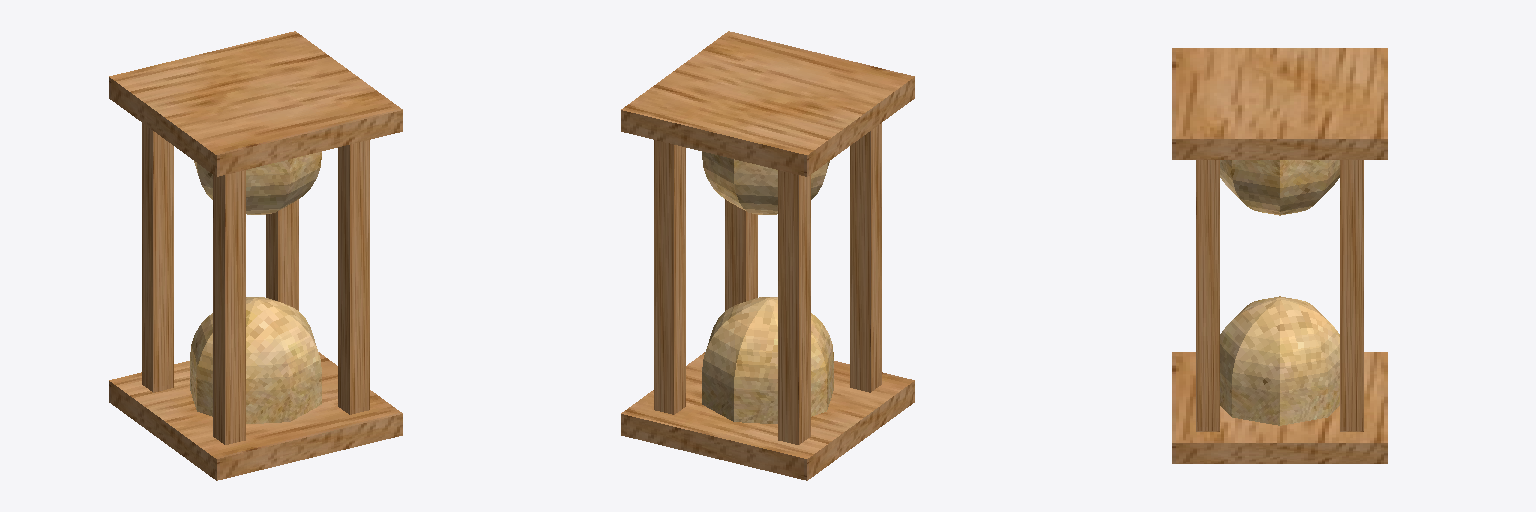
The picture shows the model from 3 angles: view 1: azimuth 30°, elevation 25°; view 2: azimuth 150°, elevation 25°; view 3: azimuth 270°, elevation 25°; orthographic projection.
Parts seen in each view (by area): view 1: Cube.005_Cube.007, Cube, Cube.004_Cube.006, Cube.003_Cube.005, Cube.001_Cube.004; view 2: Cube.005_Cube.007, Cube, Cube.004_Cube.006, Cube.003_Cube.005, Cube.001_Cube.004; view 3: Cube, Cube.003_Cube.005, Cube.005_Cube.007, Cube.004_Cube.006, Cube.001_Cube.004.
Part boxes in pixels (left/top/right/bottom): Cube.005_Cube.007: left=142, top=123, right=369, bottom=444; Cube: left=109, top=31, right=402, bottom=176; Cube.004_Cube.006: left=109, top=352, right=402, bottom=480; Cube.003_Cube.005: left=190, top=297, right=321, bottom=423; Cube.001_Cube.004: left=194, top=152, right=321, bottom=214; Cube.005_Cube.007: left=654, top=123, right=881, bottom=444; Cube: left=621, top=31, right=914, bottom=176; Cube.004_Cube.006: left=621, top=352, right=914, bottom=480; Cube.003_Cube.005: left=702, top=297, right=833, bottom=423; Cube.001_Cube.004: left=702, top=152, right=829, bottom=214; Cube: left=1172, top=48, right=1387, bottom=159; Cube.003_Cube.005: left=1220, top=296, right=1339, bottom=425; Cube.005_Cube.007: left=1196, top=160, right=1363, bottom=431; Cube.004_Cube.006: left=1172, top=352, right=1387, bottom=463; Cube.001_Cube.004: left=1220, top=160, right=1339, bottom=215.
Size of the model in its own units: 9 by 15 by 9.
1 materials, 1 textured.